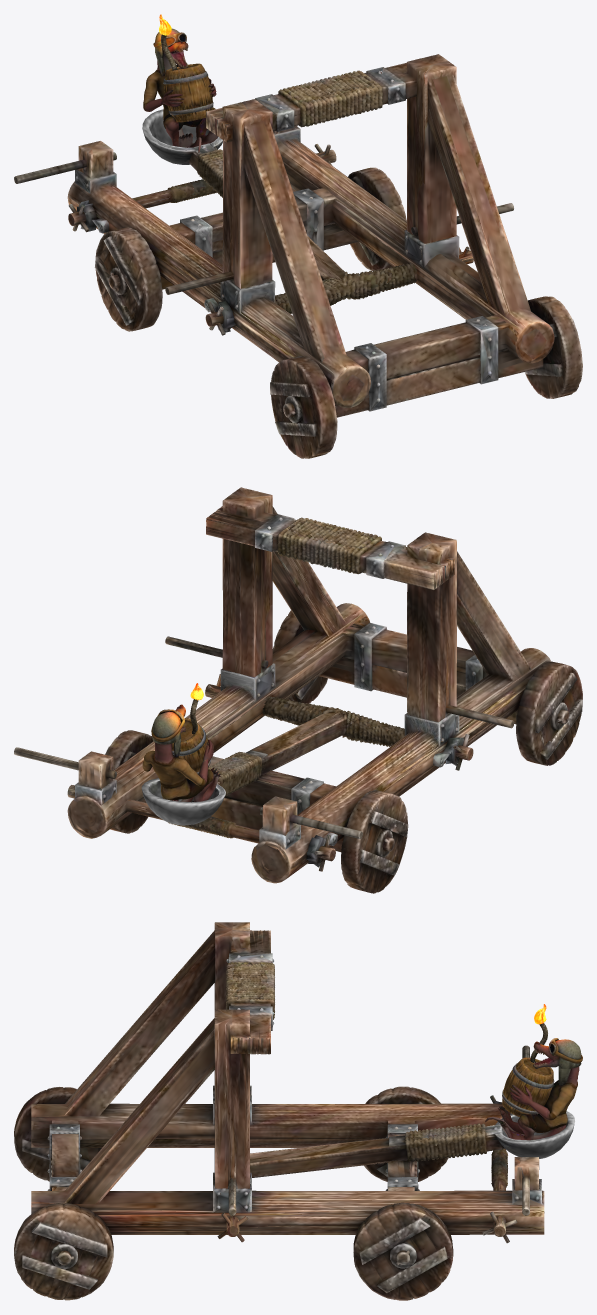
File: MZ4250 - Catapult with Kobold Ammo.glb
3 renders of one model, top to bottom at view 1: azimuth 30°, elevation 25°; view 2: azimuth 150°, elevation 25°; view 3: azimuth 270°, elevation 25°, orthographic. The views are drawn at different scales.
Parts seen in each view (by area): view 1: Catapult.001; view 2: Catapult.001; view 3: Catapult.001.
Part boxes in pixels (left/top/right/bottom): Catapult.001: left=14, top=14, right=582, bottom=458; Catapult.001: left=14, top=487, right=582, bottom=893; Catapult.001: left=14, top=922, right=582, bottom=1300.
Bounding box in the file's own units: 373 × 283 × 549.
Materials: 2 (2 with a texture image).
